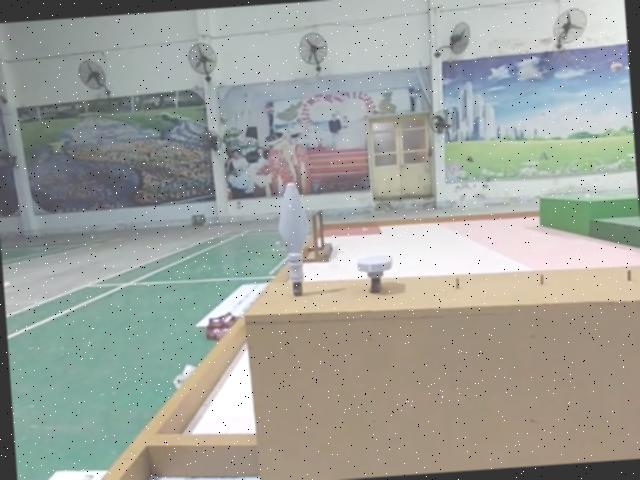Hand: (354, 252, 394, 292)
Sph: (271, 178, 311, 300)
